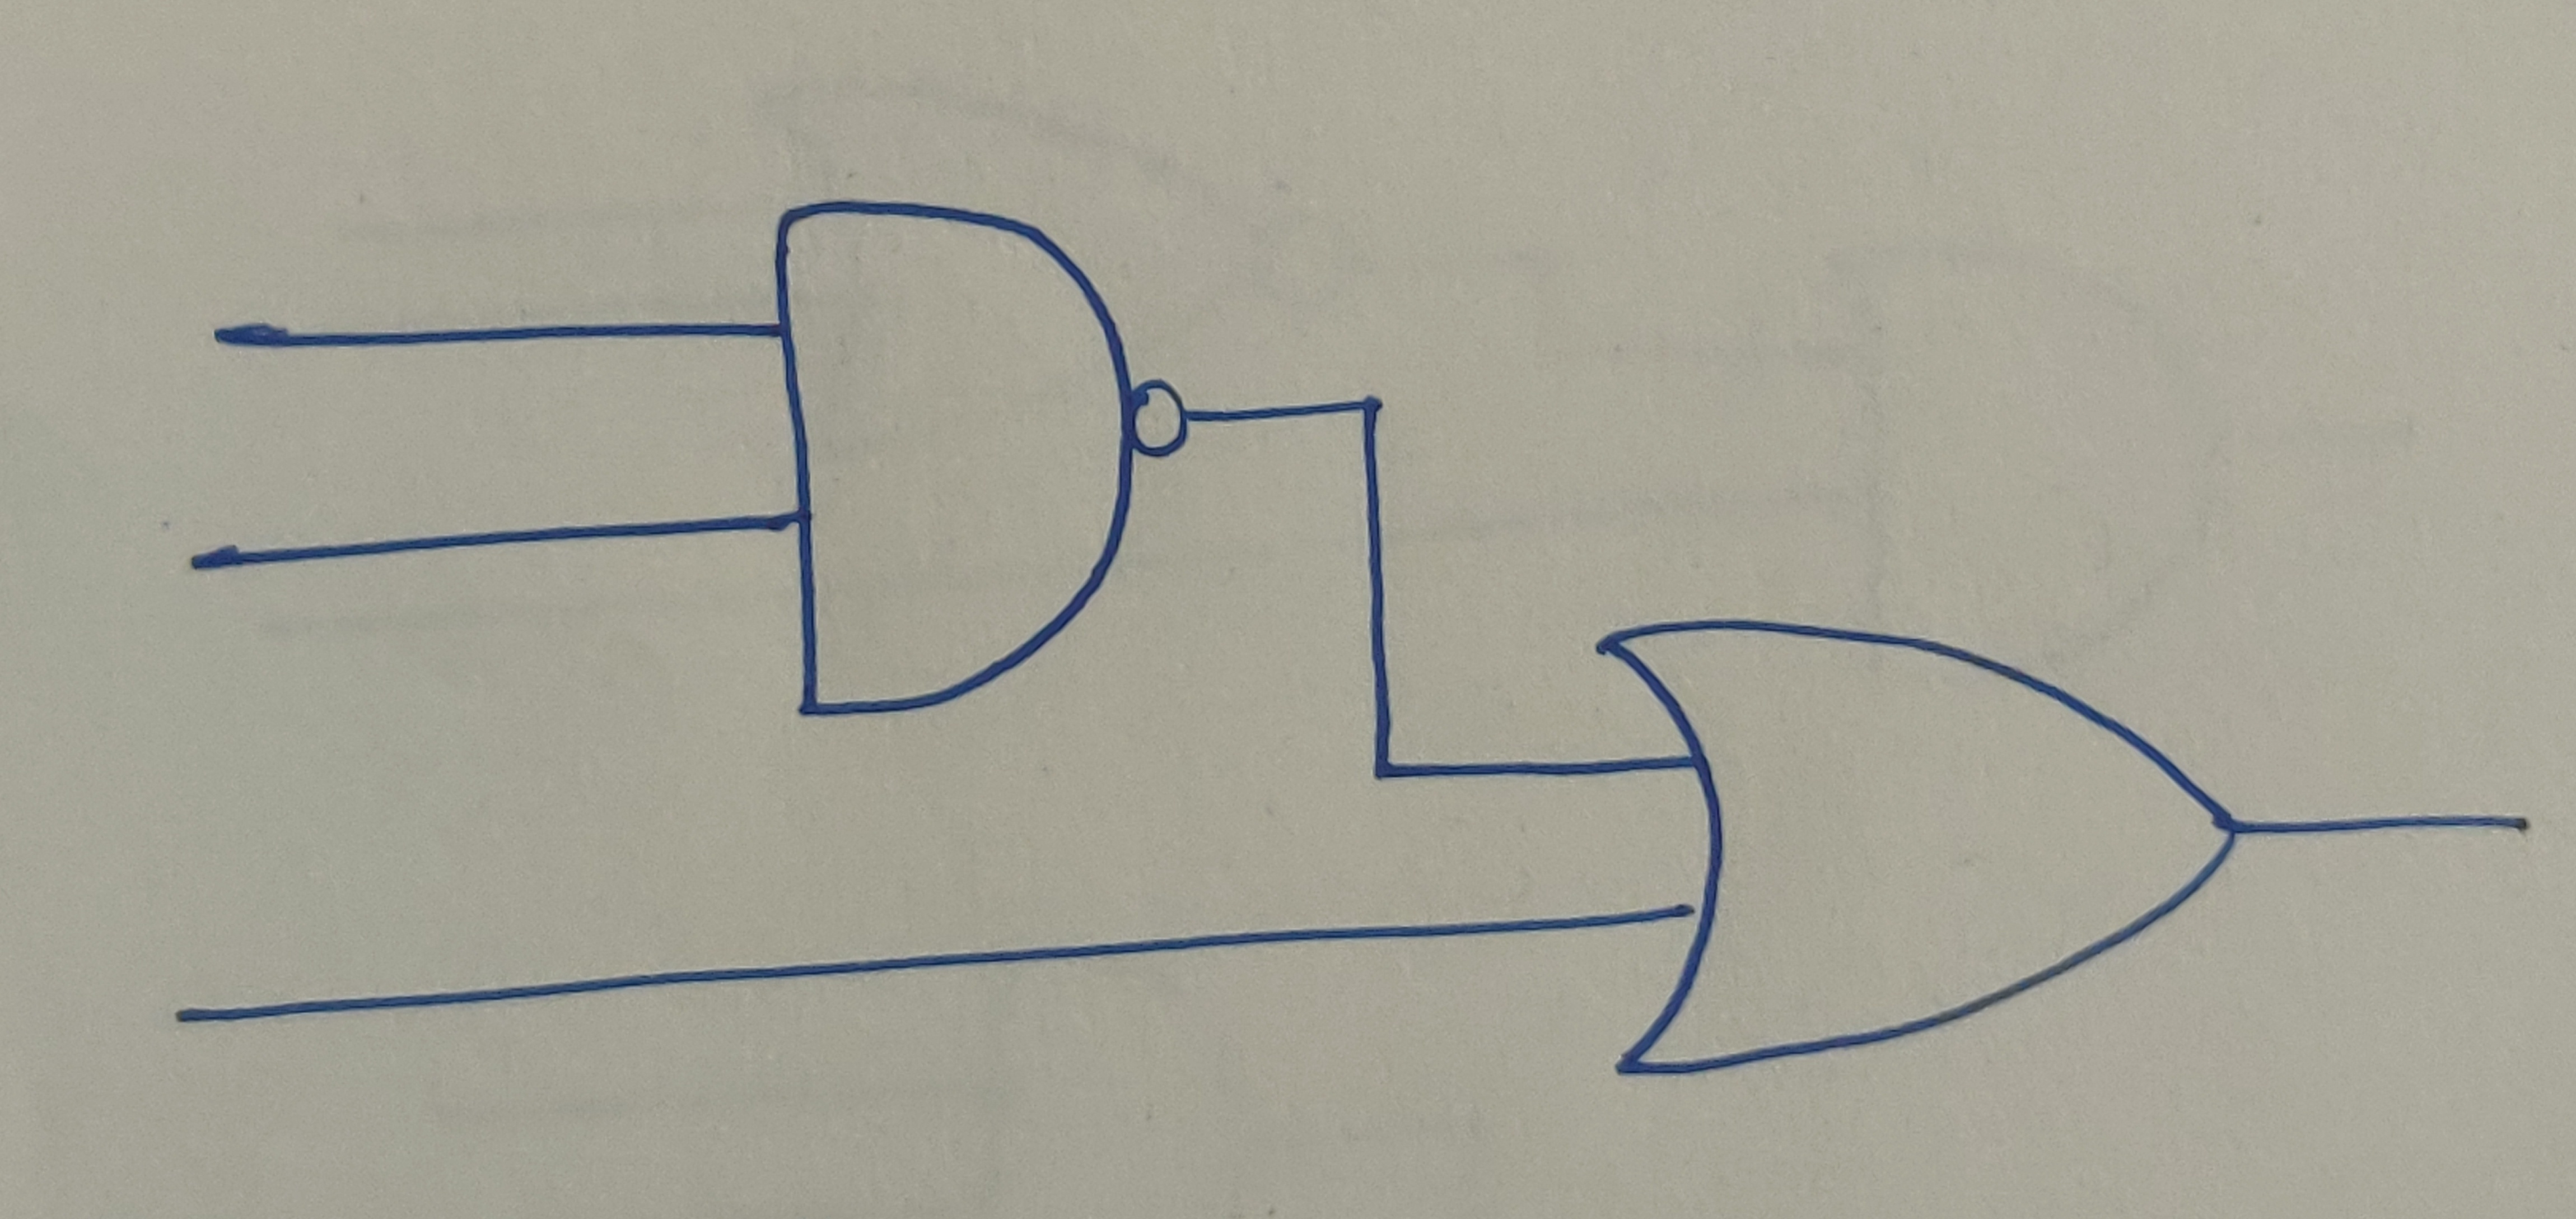and: (770, 197, 1140, 715)
not: (1125, 375, 1193, 465)
or: (1587, 623, 2243, 1084)
